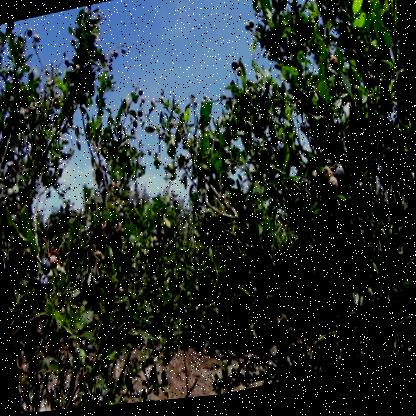intermediate: (48, 252, 65, 275), (328, 181, 341, 203), (321, 169, 334, 190), (328, 59, 342, 78)
mature: (335, 166, 348, 194), (39, 255, 53, 280), (41, 275, 56, 296)
young: (6, 183, 25, 202)
